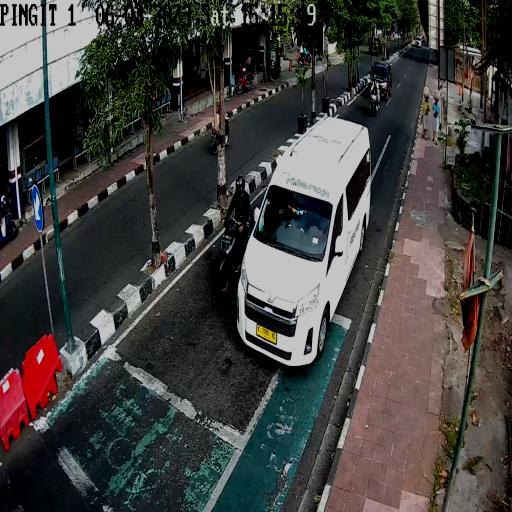mobil: (218, 214, 251, 302), (368, 60, 392, 102)
motor: (240, 116, 372, 368), (369, 88, 379, 118)
